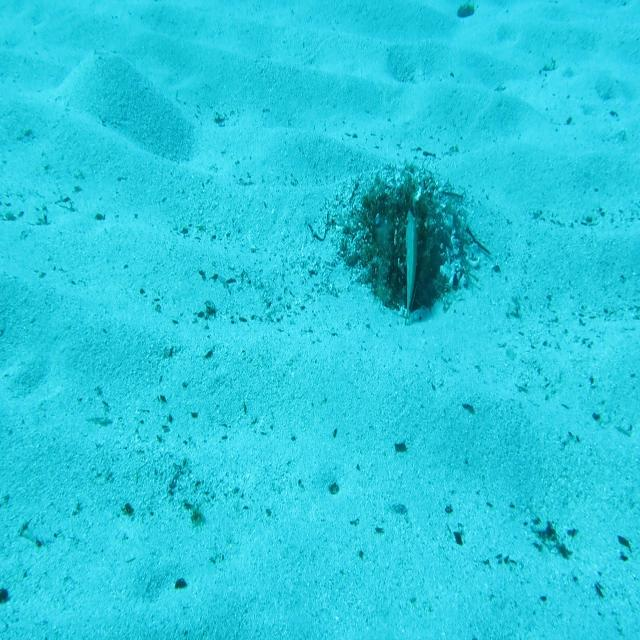FAN: (402, 203, 426, 328)
nest: (351, 176, 488, 335)
